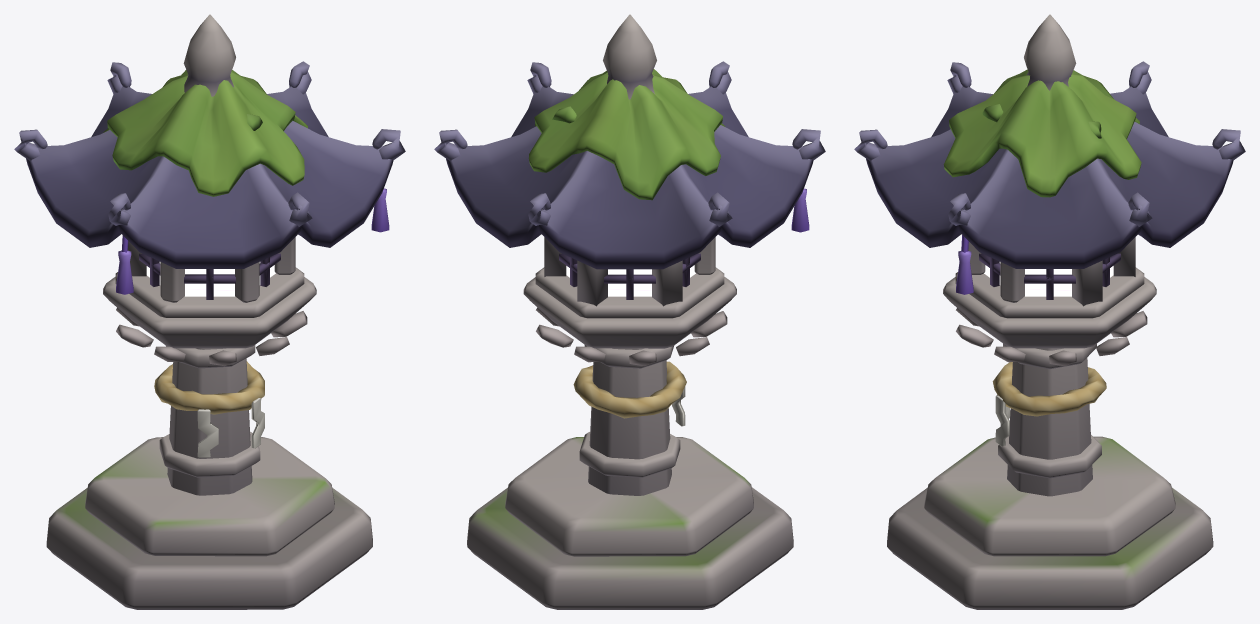
The model's file is spirit-lantern.glb.
3 views of the same model, side by side, from view 1: azimuth 30°, elevation 25°; view 2: azimuth 150°, elevation 25°; view 3: azimuth 270°, elevation 25° (orthographic).
Visible parts, largest first — view 1: lantern, flame; view 2: lantern, flame; view 3: lantern, flame.
Part boxes in pixels (box(x1,y1,x2,y2)): lantern: box(14, 14, 405, 609); flame: box(146, 262, 275, 296); lantern: box(434, 14, 825, 609); flame: box(566, 265, 695, 296); lantern: box(854, 14, 1245, 609); flame: box(984, 262, 1113, 296).
Size of the model in its own units: 1.53 by 2.66 by 1.76.
